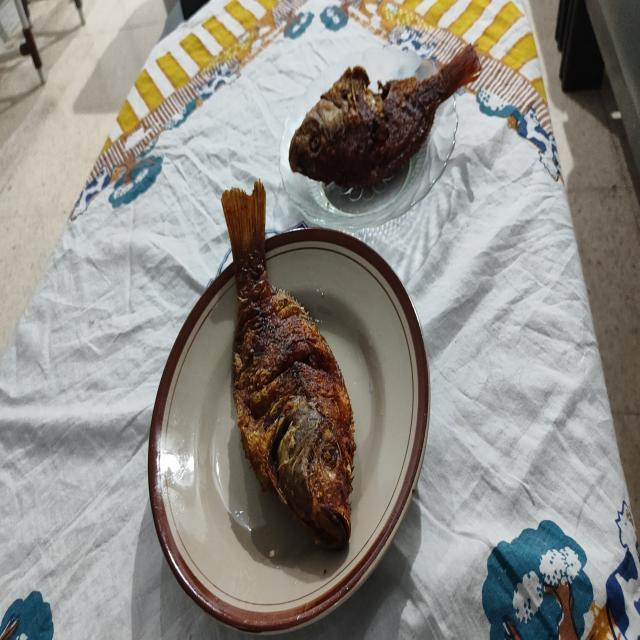ikan_mujair: (222, 182, 356, 548), (289, 45, 481, 189)
